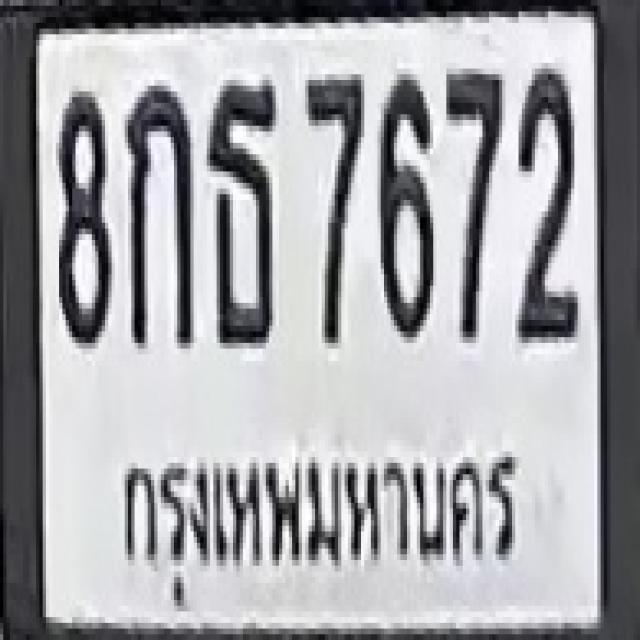2: (515, 66, 578, 340)
6: (378, 74, 433, 337)
7: (445, 68, 504, 343), (304, 71, 362, 340)
8: (56, 86, 112, 347)
A01: (125, 80, 193, 349)
A24: (205, 77, 277, 347)
BKK: (103, 423, 532, 605)
